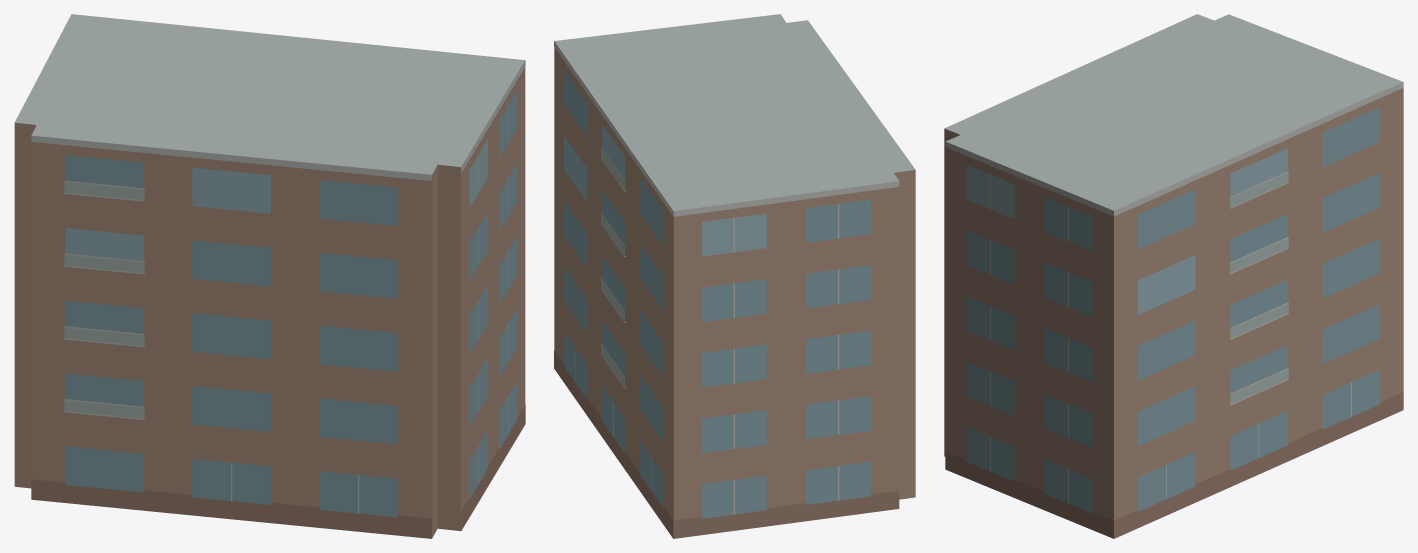
Rendered from survey-upis-32739769.glb.
3 views of the same model, side by side, from view 1: azimuth 30°, elevation 25°; view 2: azimuth 150°, elevation 25°; view 3: azimuth 270°, elevation 25° (orthographic). The views are drawn at different scales.
Visible parts, largest first — view 1: survey-upis-32739769.tmp; view 2: survey-upis-32739769.tmp; view 3: survey-upis-32739769.tmp.
Part boxes in pixels (left/top/right/bottom): survey-upis-32739769.tmp: left=14, top=14, right=525, bottom=538; survey-upis-32739769.tmp: left=554, top=14, right=915, bottom=538; survey-upis-32739769.tmp: left=944, top=14, right=1403, bottom=538.
Bounding box in the file's own units: 18.16 × 14.1 × 17.9.
